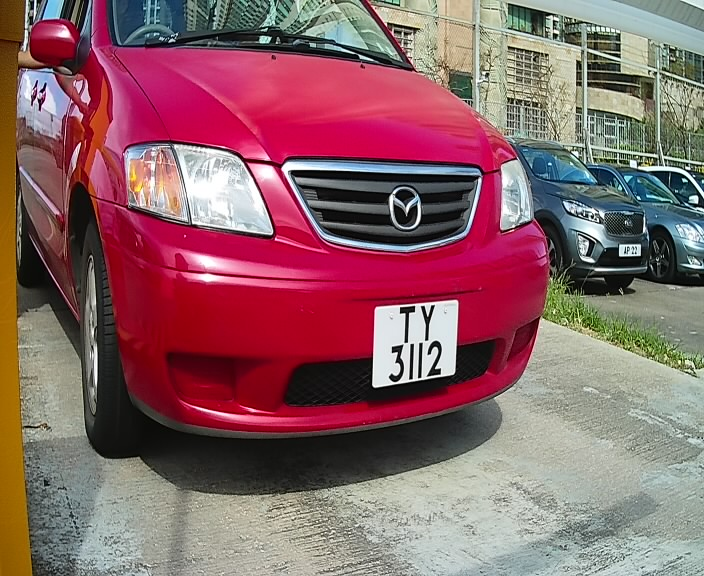Car: (35, 2, 567, 482)
License Plate: (366, 291, 469, 397)
